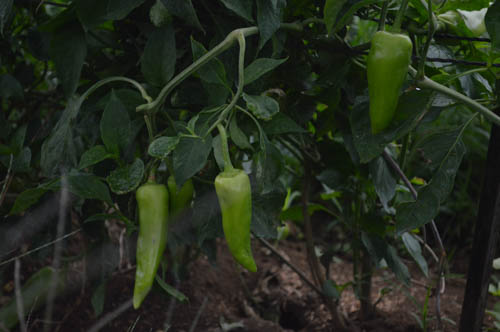ChiliPepper: (364, 30, 413, 134), (215, 171, 258, 271), (132, 187, 165, 308), (165, 178, 194, 211)
